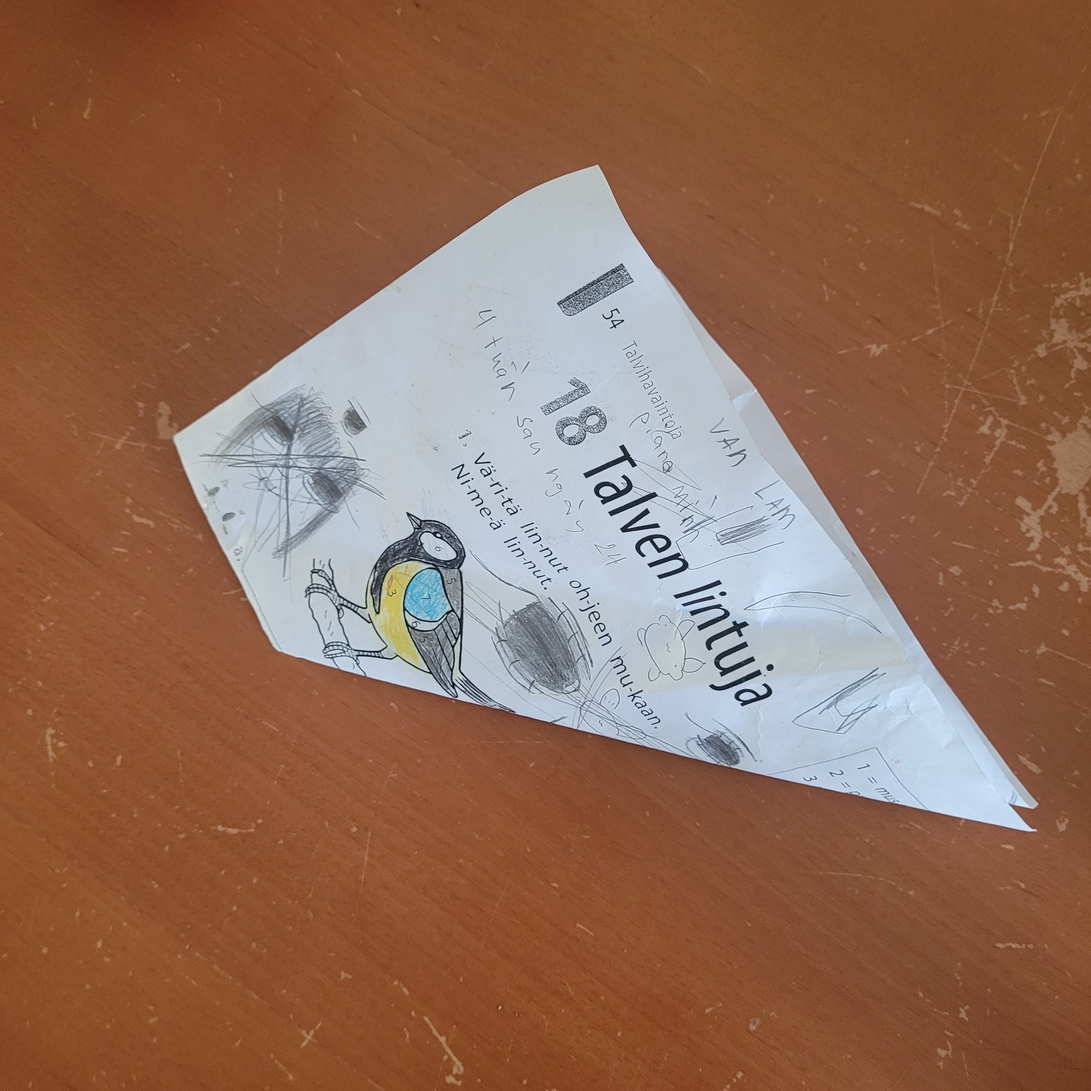paper: (163, 159, 1043, 840)
